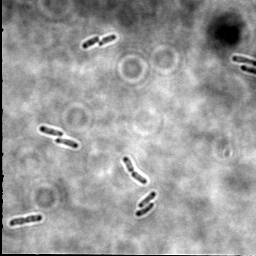Dividing: (121, 155, 149, 185), (8, 213, 44, 228)
Rod: (38, 124, 64, 139), (137, 191, 157, 209), (231, 52, 255, 67), (55, 136, 80, 150), (135, 202, 155, 218), (81, 35, 100, 51), (98, 33, 118, 48)
